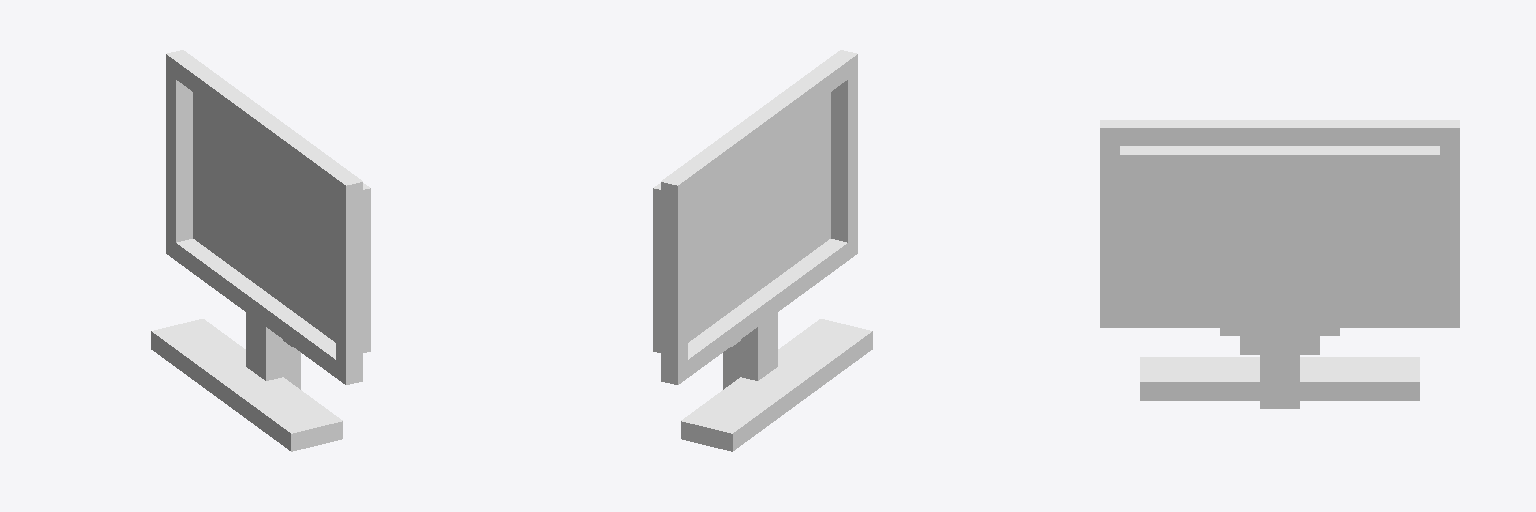
The model's file is F_Computer.obj.
3 views of the same model, side by side, from view 1: azimuth 30°, elevation 25°; view 2: azimuth 150°, elevation 25°; view 3: azimuth 270°, elevation 25° (orthographic).
Parts seen in each view (by area): view 1: object 1; view 2: object 1; view 3: object 1.
Part boxes in pixels (x1,y1,x2,y2): object 1: (151, 50, 370, 451); object 1: (653, 50, 872, 451); object 1: (1100, 120, 1459, 408).
Bounding box in the file's own units: 0.4 × 1.5 × 1.8.